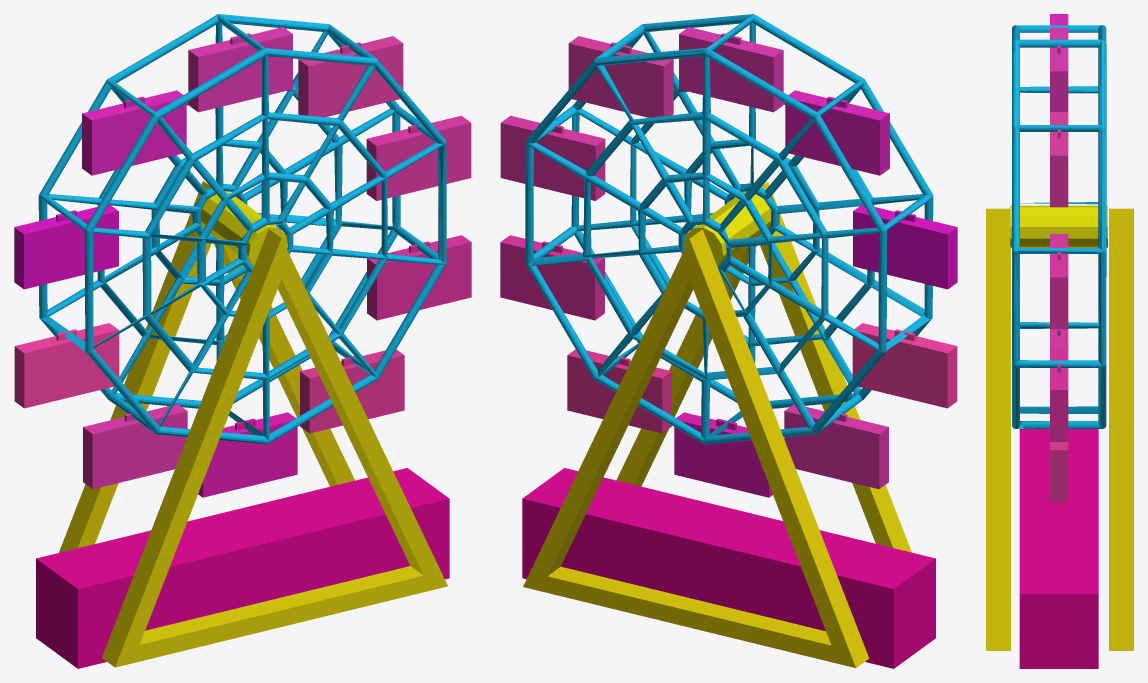
File: ferris2.glb
The picture shows the model from 3 angles, left to right: view 1: azimuth 30°, elevation 25°; view 2: azimuth 150°, elevation 25°; view 3: azimuth 270°, elevation 25°; orthographic projection. The views are drawn at different scales.
Visible parts, largest first — view 1: Cylinder, Cube, Plane.001, Plane, Cube.004, Cube.003, Cube.005, Cube.006, Cube.007, Cube.010, Cube.009, Cube.008 (+3 smaller); view 2: Cylinder, Cube, Plane, Plane.001, Cube.004, Cube.005, Cube.003, Cube.006, Cube.007, Cube.008, Cube.010, Cube.009 (+3 smaller); view 3: Cube, Cylinder, Plane, Plane.001, Cylinder.001, Cube.009, Cube.010, Cube.008, Cube.007, Cube.002, Cube.003.
Boxes of the visible parts, x1=… form: Cylinder: x1=38, y1=14, x2=446, y2=444; Cube: x1=36, y1=468, x2=449, y2=668; Plane.001: x1=102, y1=229, x2=447, y2=667; Plane: x1=59, y1=181, x2=354, y2=552; Cube.004: x1=14, y1=323, x2=119, y2=408; Cube.003: x1=83, y1=404, x2=187, y2=489; Cube.005: x1=14, y1=204, x2=118, y2=289; Cube.006: x1=82, y1=90, x2=186, y2=175; Cube.007: x1=188, y1=27, x2=292, y2=112; Cube.010: x1=367, y1=235, x2=471, y2=320; Cube.009: x1=366, y1=115, x2=471, y2=200; Cube.008: x1=298, y1=36, x2=403, y2=116; Cylinder: x1=525, y1=14, x2=933, y2=444; Cube: x1=522, y1=468, x2=935, y2=668; Plane: x1=523, y1=229, x2=869, y2=667; Plane.001: x1=616, y1=181, x2=911, y2=552; Cube.004: x1=852, y1=323, x2=957, y2=408; Cube.005: x1=853, y1=204, x2=957, y2=289; Cube.003: x1=784, y1=404, x2=888, y2=489; Cube.006: x1=785, y1=90, x2=889, y2=175; Cube.007: x1=679, y1=27, x2=783, y2=112; Cube.008: x1=568, y1=36, x2=673, y2=117; Cube.010: x1=500, y1=235, x2=604, y2=320; Cube.009: x1=500, y1=115, x2=605, y2=200; Cube: x1=1019, y1=429, x2=1098, y2=668; Cylinder: x1=1012, y1=25, x2=1106, y2=428; Plane: x1=1109, y1=208, x2=1133, y2=650; Plane.001: x1=986, y1=208, x2=1010, y2=650; Cylinder.001: x1=1010, y1=205, x2=1107, y2=247; Cube.009: x1=1050, y1=234, x2=1068, y2=329; Cube.010: x1=1050, y1=346, x2=1068, y2=441; Cube.008: x1=1050, y1=112, x2=1068, y2=207; Cube.007: x1=1050, y1=27, x2=1068, y2=111; Cube.002: x1=1050, y1=442, x2=1068, y2=502; Cube.003: x1=1050, y1=329, x2=1068, y2=346.
Bounding box in the file's own units: 2.41 × 2.97 × 0.7319.
